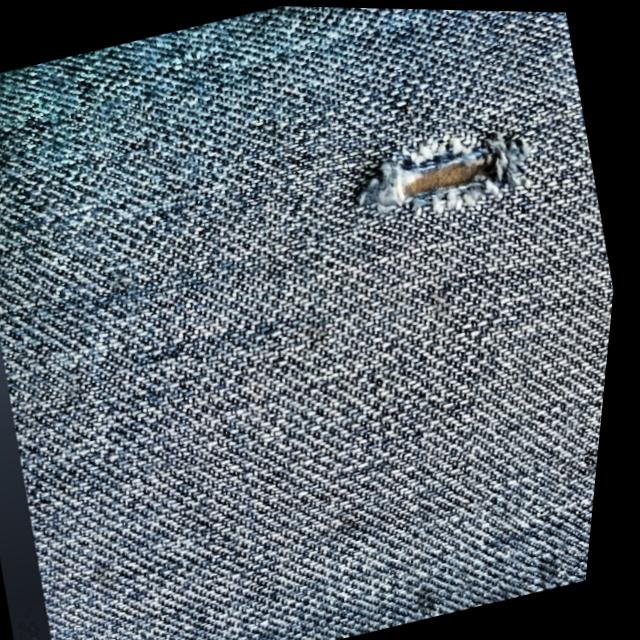Hole: (308, 62, 581, 288)
